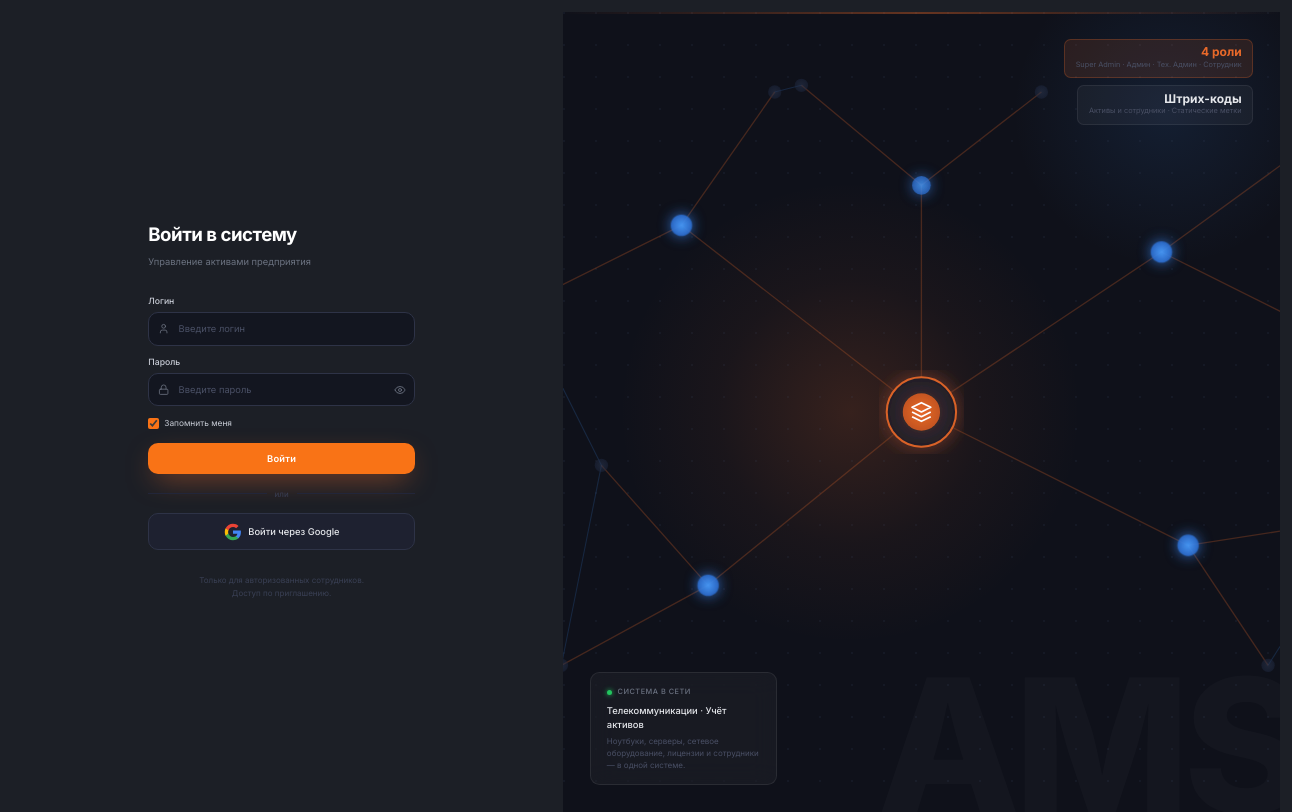
LoginPage › shows the invalid-credentials message when sign-in rejects with auth/invalid-credential
Type "superadmin" into the field with placeholder "Введите логин" at (282, 329), box [148, 312, 415, 346]
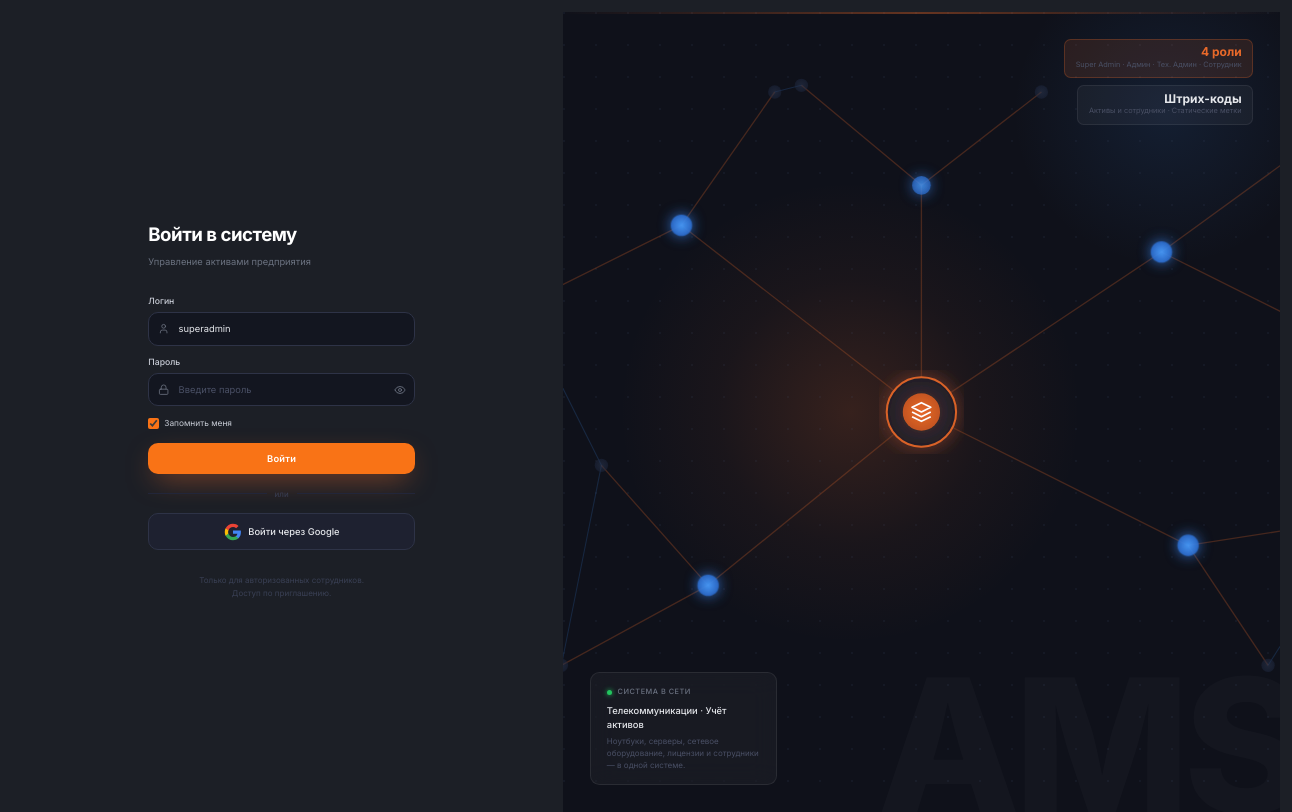
Type "wrong" into the password field with placeholder "Введите пароль" at (282, 390), box [148, 373, 415, 406]
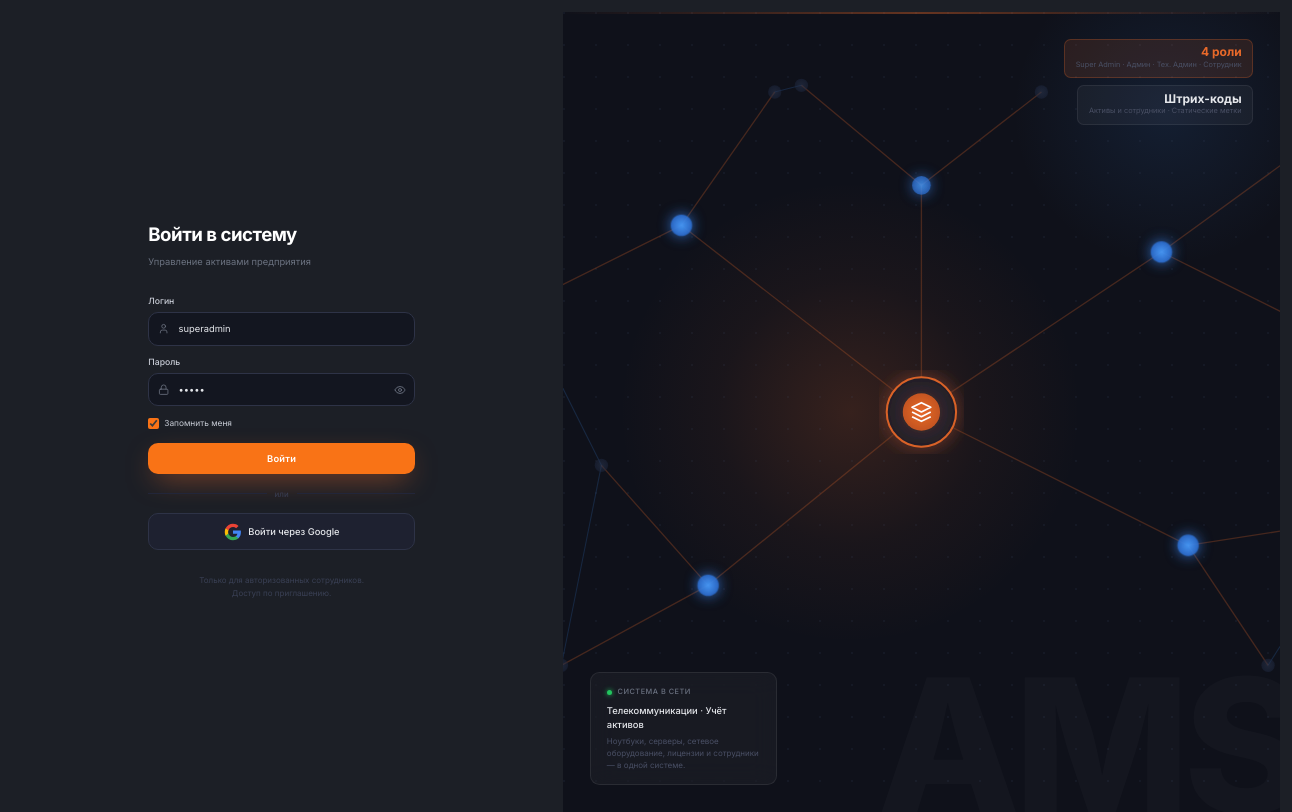
Click the button "Войти" at (282, 459), box [148, 443, 415, 474]
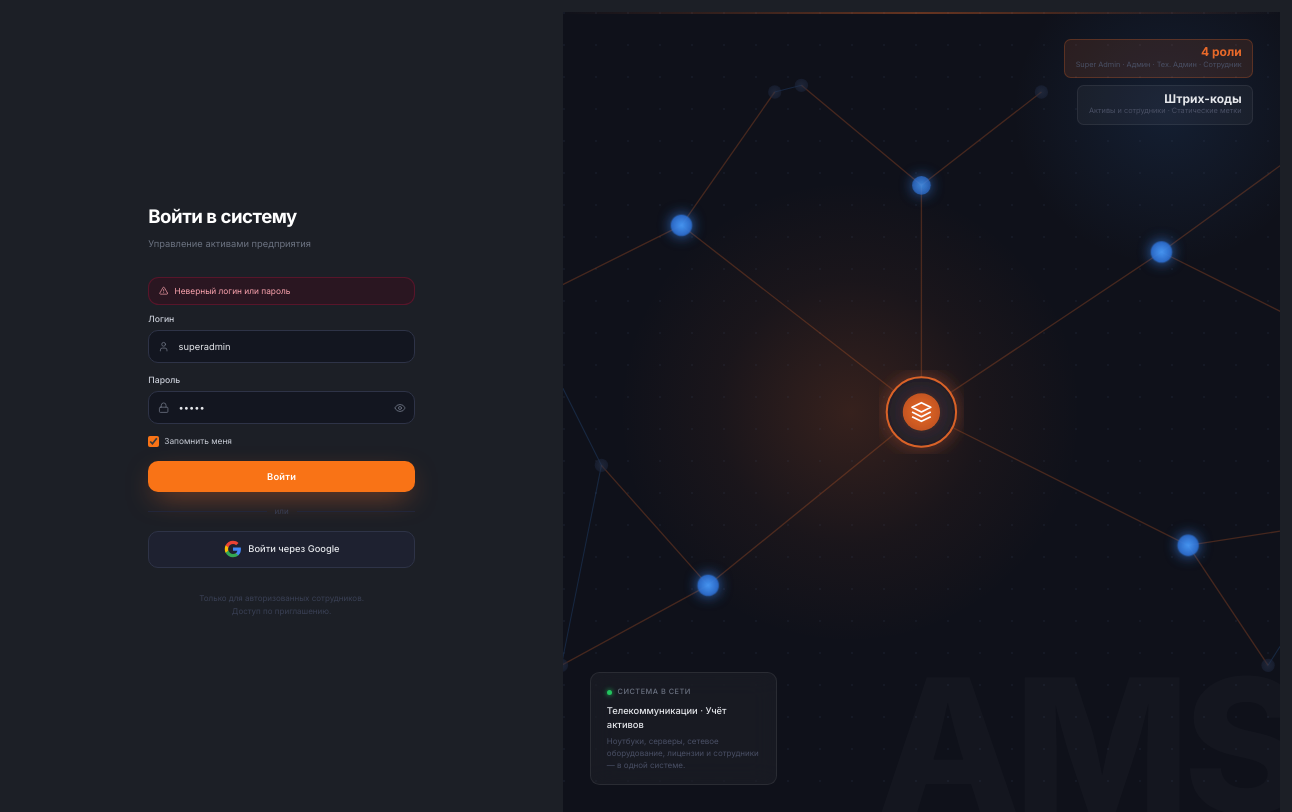
expect the text "Неверный логин или пароль" is shown: met, box [175, 285, 290, 298]
